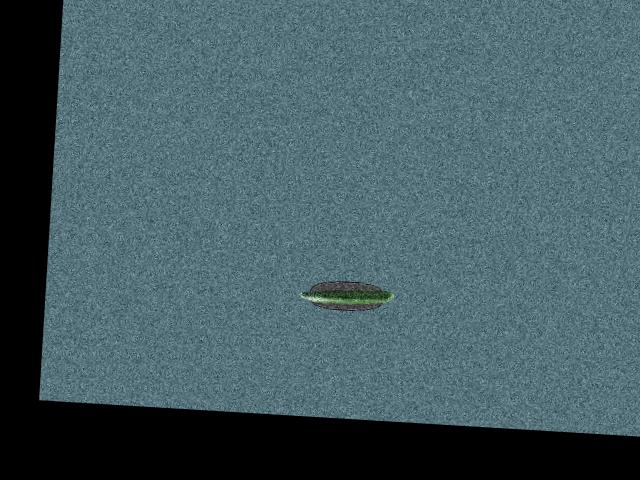cucumber: (298, 285, 394, 306)
